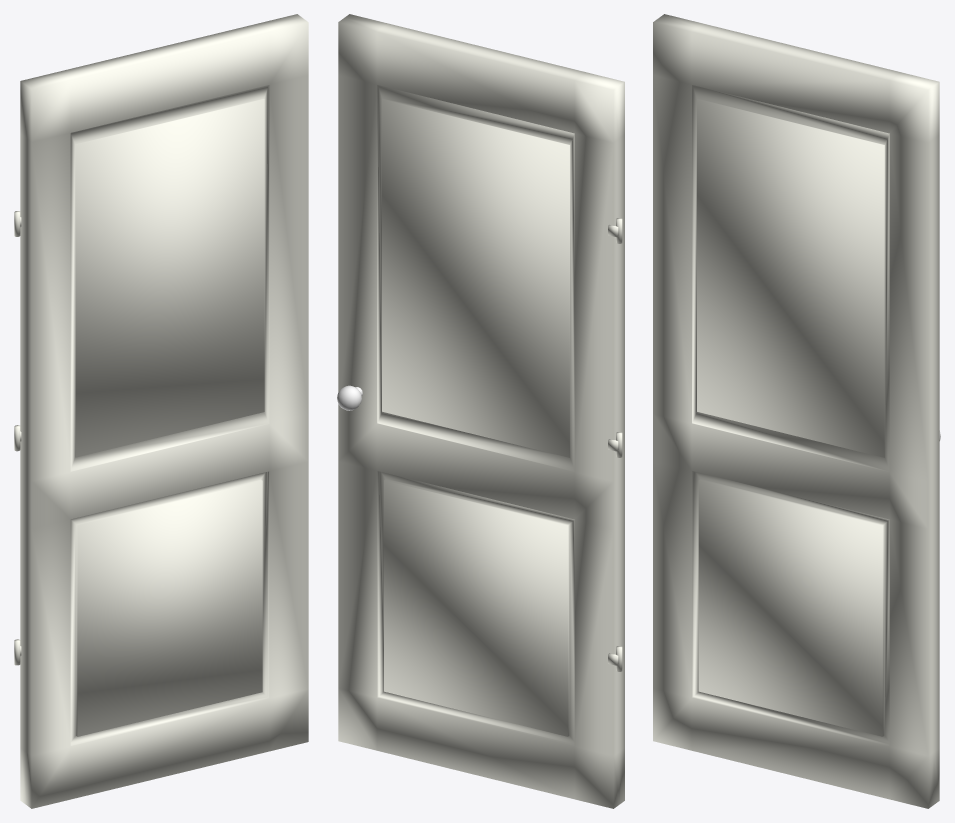
Rendered from Door.fbx.
The picture shows the model from 3 angles, left to right: view 1: azimuth 30°, elevation 25°; view 2: azimuth 150°, elevation 25°; view 3: azimuth 330°, elevation 25°; orthographic projection.
Parts seen in each view (by area): view 1: Door; view 2: Door; view 3: Door.
Part boxes in pixels (x1=…): Door: x1=14, y1=14, x2=308, y2=808; Door: x1=337, y1=14, x2=624, y2=808; Door: x1=653, y1=14, x2=940, y2=808.
Size of the model in its own units: 0.8406 by 2.04 by 0.1336.
